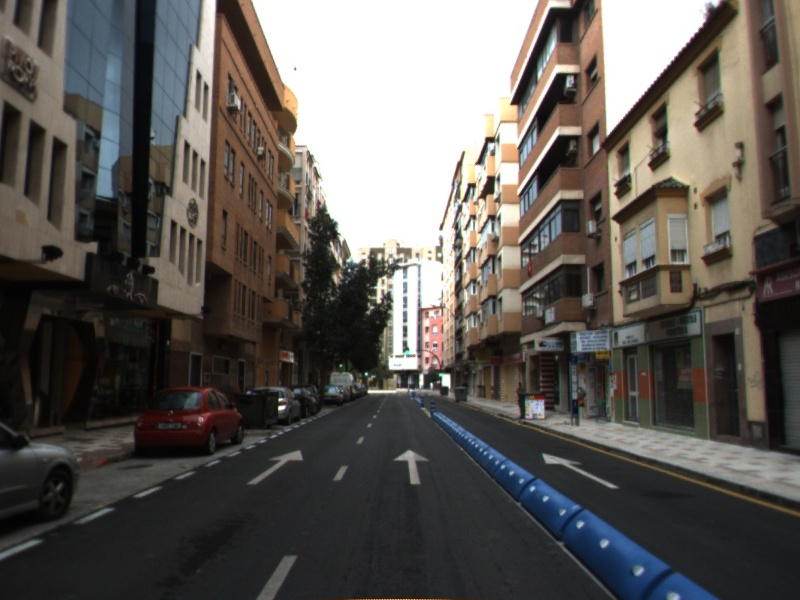STRAIGHT: (540, 451, 623, 491), (244, 448, 305, 486), (391, 447, 432, 486)
